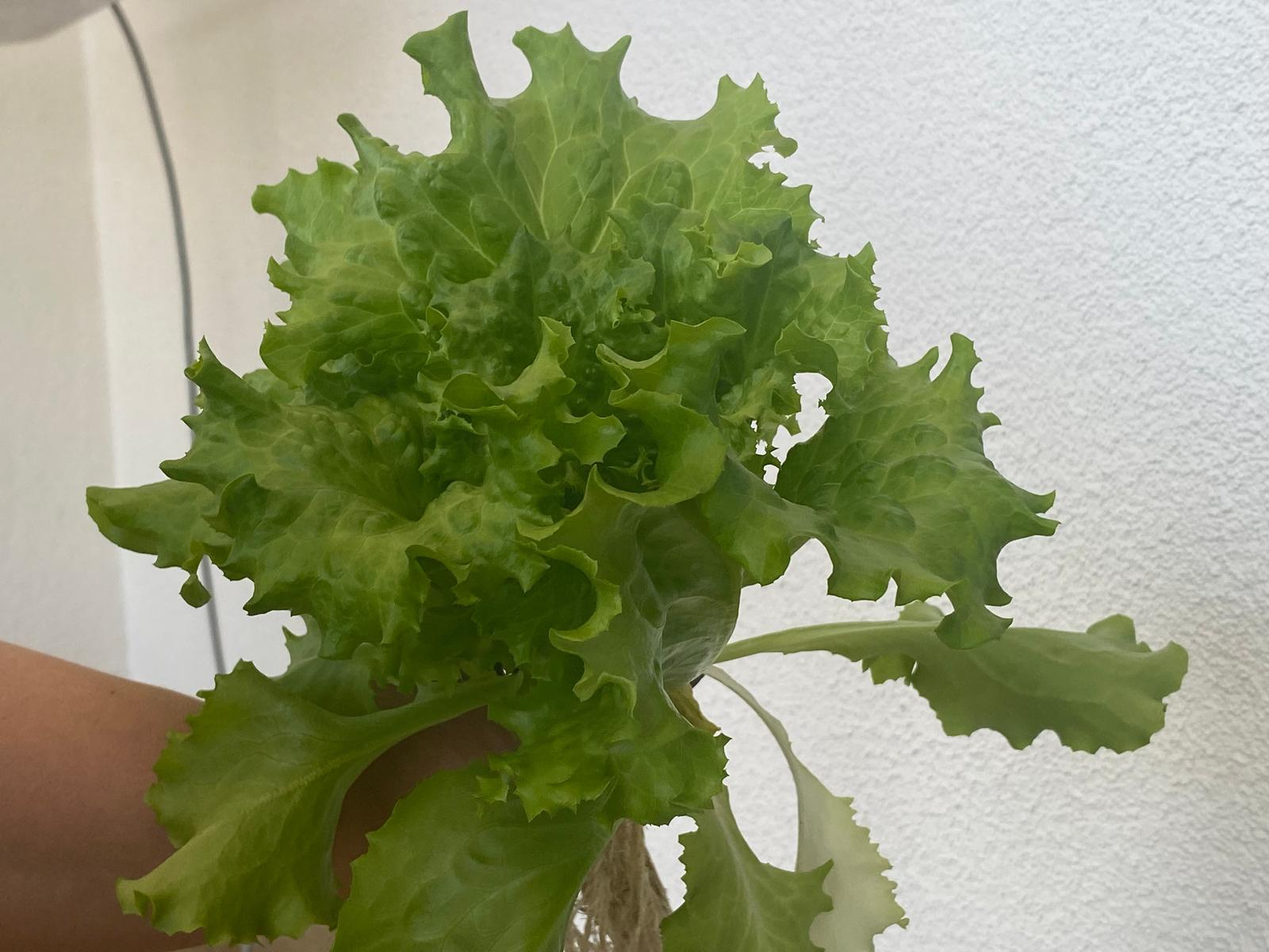Healthy: (85, 10, 1192, 952)
